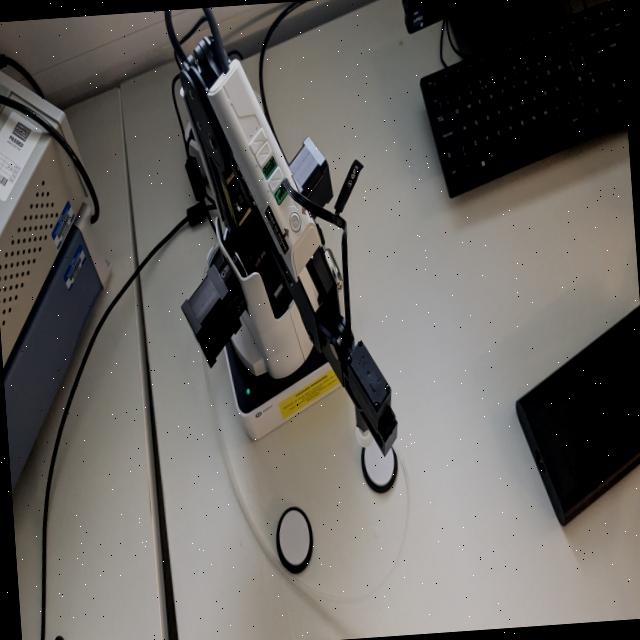Robot-end-effector-HF8z: (340, 330, 402, 460)
